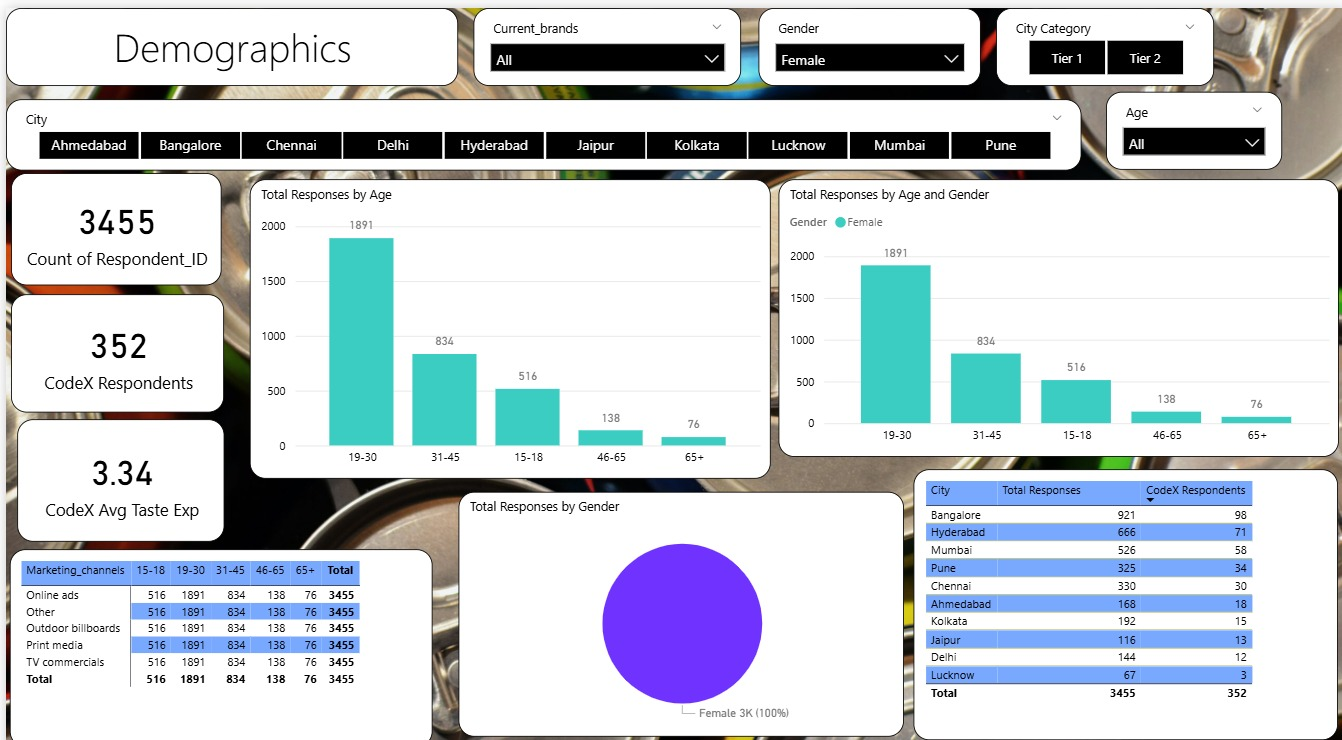

The page's visual inventory and layout, read from the dashboard file:
{"tool":"powerbi","page":{"name":"Page 1","canvas":[1280,720],"ordinal":0},"visuals":[{"type":"textbox","box":[0,0,431,74.7],"z":0},{"type":"slicer","fields":{"Values":["fact_survey_responses.Current_brands"]},"box":[445.4,0,255.5,74.7],"z":1000},{"type":"slicer","fields":{"Values":["dim_repondents.Gender"]},"box":[718,0,212.2,74.7],"z":2000},{"type":"slicer","fields":{"Values":["dim_cities.Tier"]},"box":[944.6,0,208.3,74.7],"z":3000},{"type":"slicer","fields":{"Values":["dim_cities.City"]},"box":[0,86.5,1025.8,68.1],"z":4000},{"type":"slicer","fields":{"Values":["dim_repondents.Age"]},"box":[1049.4,79.9,167.7,74.7],"z":5000},{"type":"card","fields":{"Values":["Table.CodeX Respondents"]},"box":[5.2,272.5,203.1,112.7],"z":6000},{"type":"card","fields":{"Values":["Table.CodeX Avg Taste Exp"]},"box":[10.5,391.7,197.8,116.6],"z":7000},{"type":"card","fields":{"Values":["CountNonNull(dim_repondents.Respondent_ID)"]},"box":[5.2,157.2,200.5,107.4],"z":8000},{"type":"tableEx","fields":{"Values":["dim_cities.City","Table.Total Responses","Table.CodeX Respondents"]},"box":[866,440.2,404.8,258.1],"z":9000},{"type":"clusteredColumnChart","fields":{"Y":["Table.Total Responses"],"Category":["dim_repondents.Age"],"Series":["dim_repondents.Gender"]},"box":[736.3,163.8,534.5,264.6],"z":10000},{"type":"pieChart","fields":{"Category":["dim_repondents.Gender"],"Y":["Table.Total Responses"]},"box":[431,461.2,424.5,233.2],"z":11000},{"type":"pivotTable","title":"Marketing Channels","fields":{"Rows":["fact_survey_responses.Marketing_channels"],"Columns":["dim_repondents.Age"],"Values":["Table.Total Responses"]},"box":[3.9,516.2,403.5,188.7],"z":12000},{"type":"clusteredColumnChart","fields":{"Y":["Table.Total Responses"],"Category":["dim_repondents.Age"]},"box":[231.9,163.8,496.5,285.6],"z":13000}]}

Visuals, with their boxes in screenshot pixels (x1, y1, x2, y2), scaled from the page's 1280x720 canvas onto the 1342x740 screenshot:
textbox: [0, 0, 452, 77]
slicer - fact_survey_responses.Current_brands: [467, 0, 735, 77]
slicer - dim_repondents.Gender: [753, 0, 975, 77]
slicer - dim_cities.Tier: [990, 0, 1209, 77]
slicer - dim_cities.City: [0, 89, 1075, 159]
slicer - dim_repondents.Age: [1100, 82, 1276, 159]
card - Table.CodeX Respondents: [5, 280, 218, 396]
card - Table.CodeX Avg Taste Exp: [11, 403, 218, 522]
card - CountNonNull(dim_repondents.Respondent_ID): [5, 162, 216, 272]
tableEx - dim_cities.City x Table.Total Responses: [908, 452, 1332, 718]
clusteredColumnChart - Table.Total Responses x dim_repondents.Age: [772, 168, 1332, 440]
pieChart - dim_repondents.Gender x Table.Total Responses: [452, 474, 897, 714]
"Marketing Channels" pivotTable: [4, 531, 427, 724]
clusteredColumnChart - Table.Total Responses x dim_repondents.Age: [243, 168, 764, 462]
